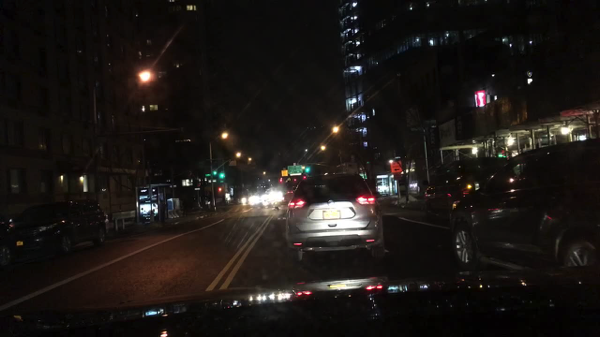car: (448, 138, 599, 272), (285, 170, 385, 260), (7, 201, 110, 262), (422, 158, 504, 219), (0, 208, 21, 266), (241, 195, 256, 206), (271, 191, 281, 201), (251, 195, 261, 204), (261, 194, 269, 202), (286, 190, 293, 196)
person: (182, 197, 188, 217)
traffic light: (304, 162, 310, 174), (217, 186, 223, 195), (220, 165, 223, 180), (213, 165, 216, 177), (302, 175, 306, 184), (279, 178, 282, 185)
traffic sign: (389, 160, 401, 173), (289, 166, 301, 176), (281, 170, 288, 177), (205, 172, 211, 179)
